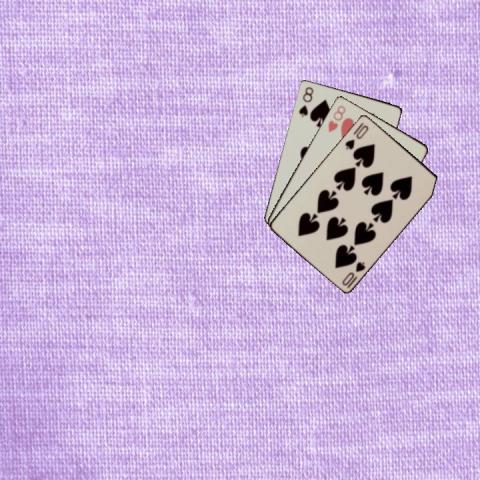10s: (342, 121, 370, 151), (338, 258, 366, 287)
8h: (325, 102, 347, 134)
8s: (296, 83, 315, 119)
